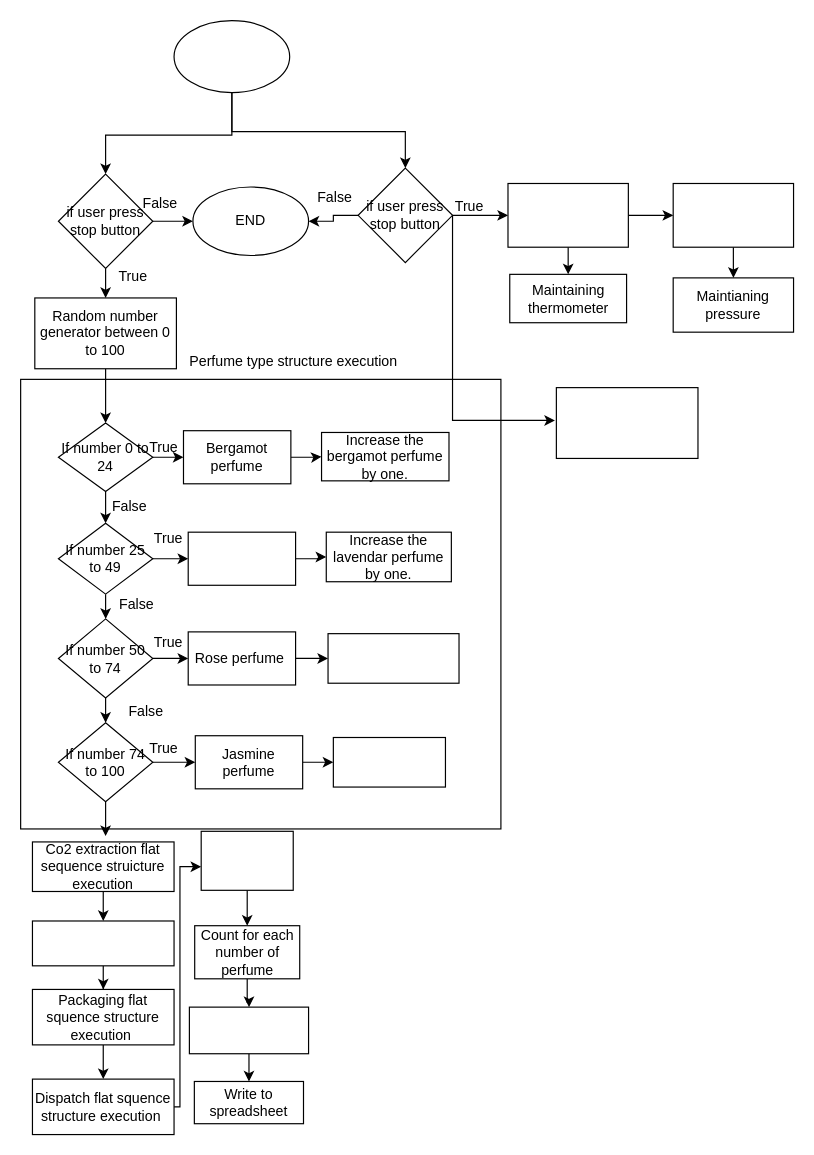
The diagram is 814 pixels wide and 1155 high, and some of its shapes have lost their labels. Here are the shapes that lost their labels. From the top down, the centre of each, then its label:
At point 231,56: "START".
At point 567,214: "Random number generator from 95 to 110".
At point 733,214: "Random number generator from 70 to 95".
At point 626,422: "Live price of ethanol".
At point 241,558: "Lavendar perfume".
At point 393,657: "Increase the rose perfume by one.".
At point 388,761: "Increase the jasmine perfume by one.".
At point 246,860: "Bundle data for cluster".
At point 102,943: "Mixing flat sequence struicture execution".
At point 248,1030: "Build array".
